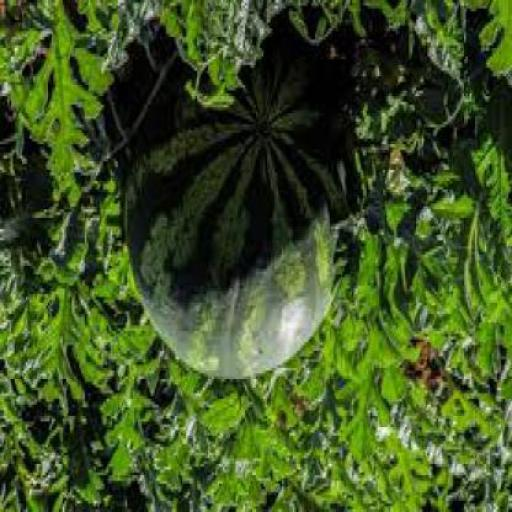biodegradable: (0, 2, 511, 511), (114, 37, 350, 381)
